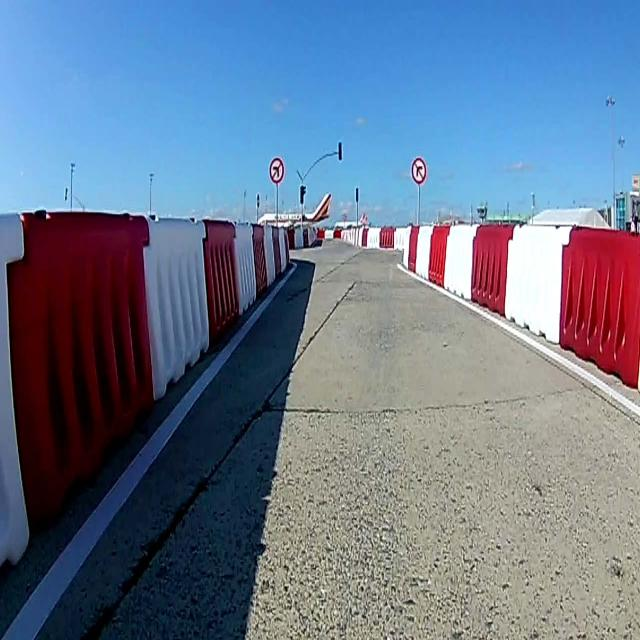sagadonulmez: (412, 157, 426, 184)
soladonulmez: (269, 157, 285, 184)
